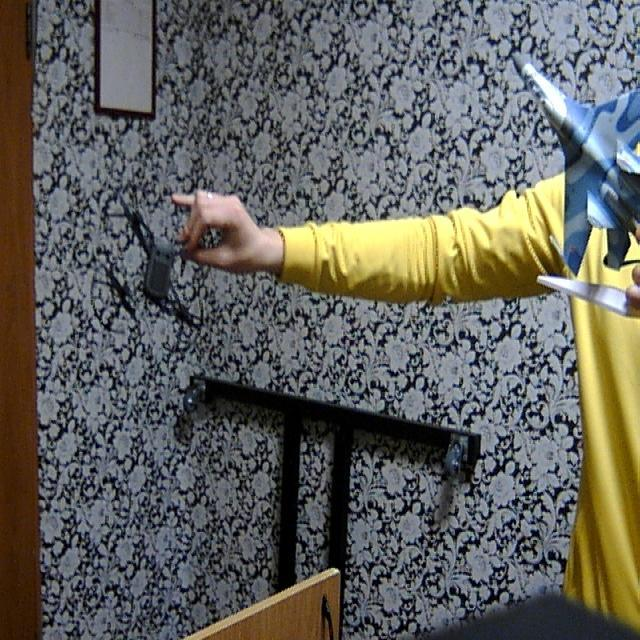drone: (90, 165, 211, 351)
